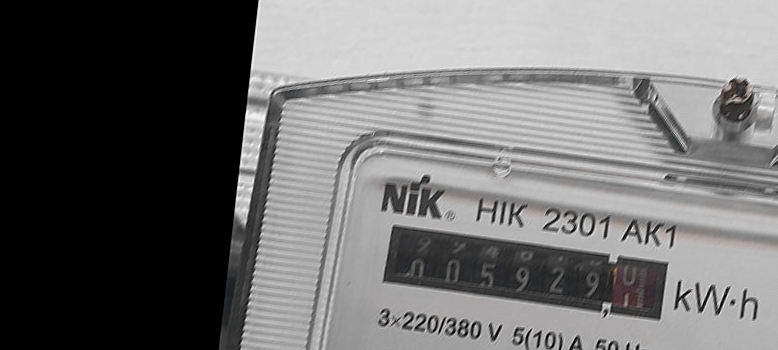0: (443, 255, 465, 285), (406, 253, 430, 278), (620, 262, 641, 287)
2: (546, 262, 569, 297)
5: (477, 259, 498, 289)
9: (510, 262, 534, 294), (582, 267, 604, 301), (414, 234, 434, 254)
screen: (376, 218, 678, 330)
